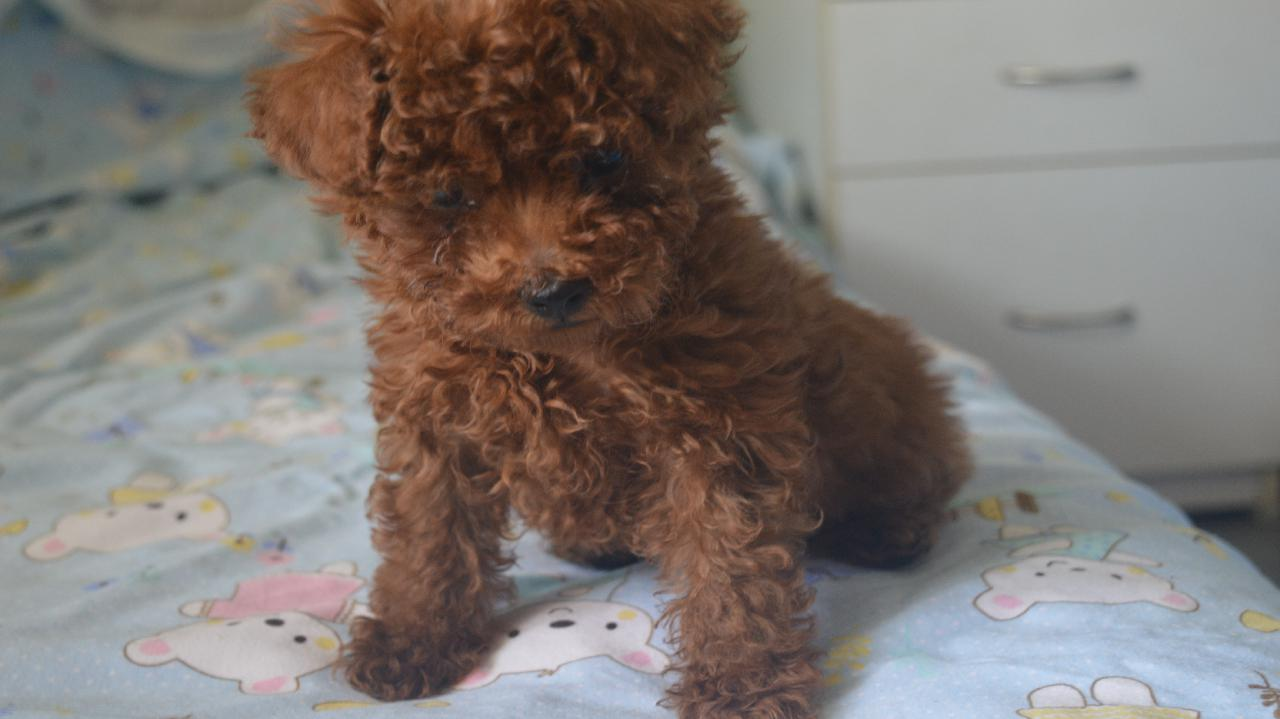coin: (251, 7, 969, 711)
